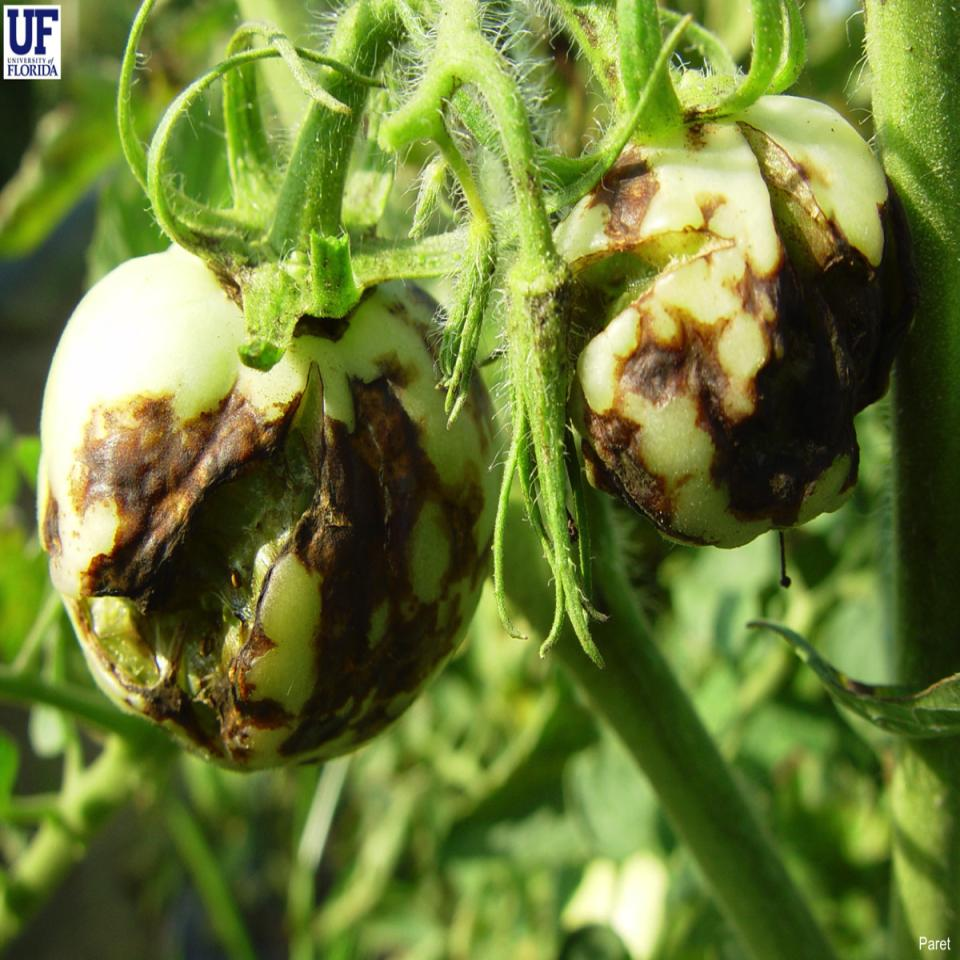Spotted wilt Virus: (35, 233, 504, 776), (552, 86, 914, 555)
